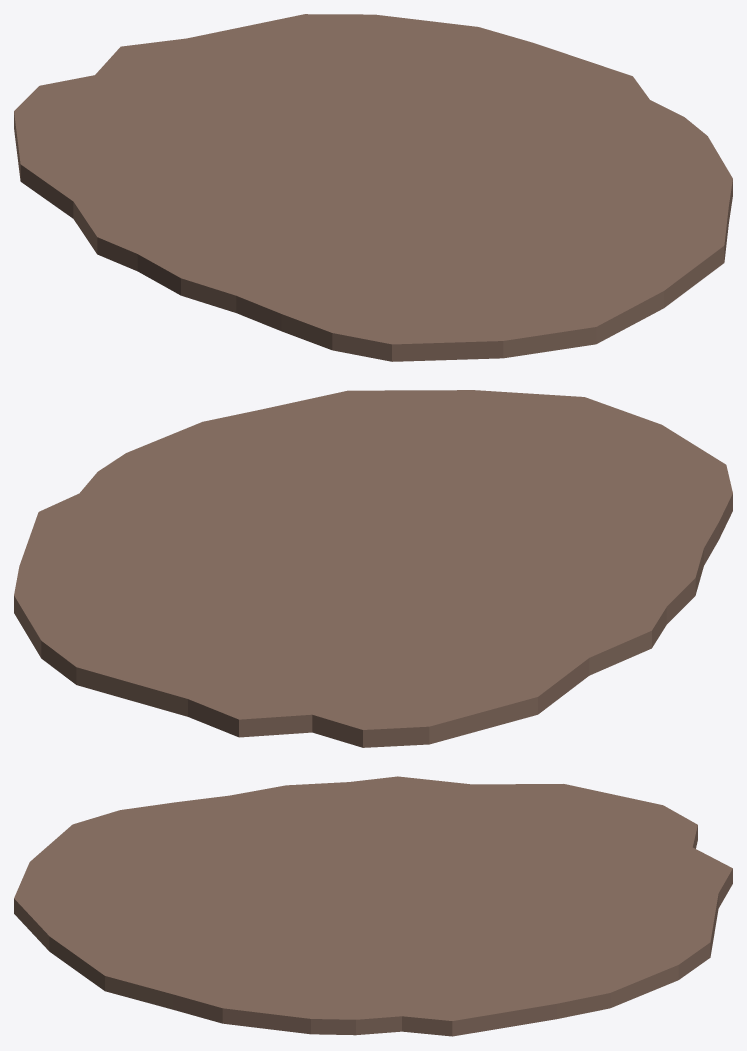
Rendered from SM_island11.fbx.
The picture shows the model from 3 angles, top to bottom: view 1: azimuth 30°, elevation 25°; view 2: azimuth 150°, elevation 25°; view 3: azimuth 270°, elevation 25°; orthographic projection. The views are drawn at different scales.
Visible parts, largest first — view 1: SM_island11; view 2: SM_island11; view 3: SM_island11.
Boxes of the visible parts, box(x1,y1,x2,y2) form: SM_island11: box(14, 14, 732, 361); SM_island11: box(14, 390, 732, 747); SM_island11: box(14, 776, 732, 1036).
Size of the model in its own units: 5238 by 154 by 6505.
